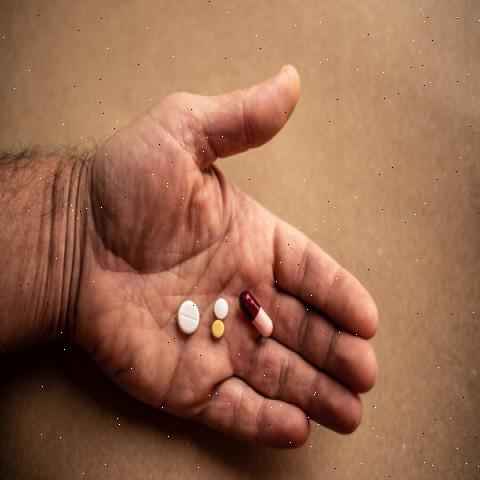Pill: (166, 287, 205, 345), (205, 289, 234, 320)
